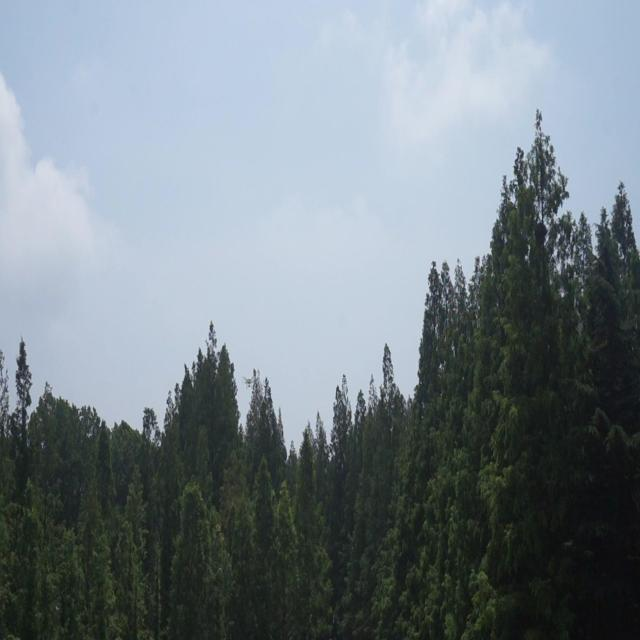drone: (240, 371, 257, 389)
